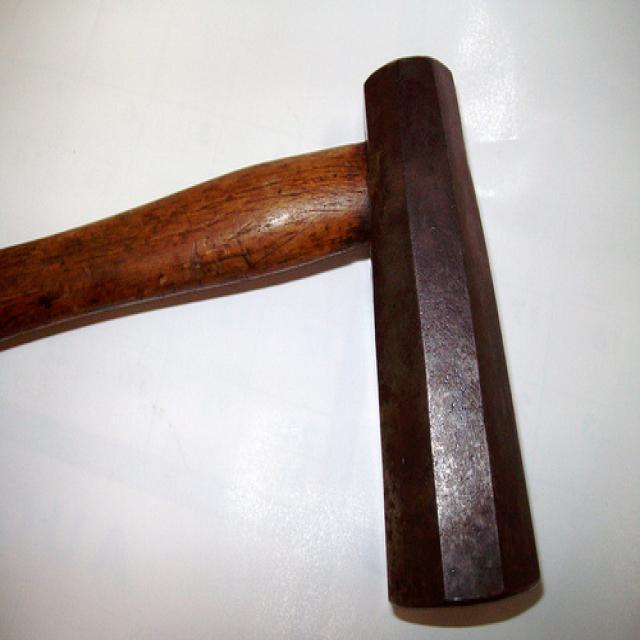hammer: (0, 33, 551, 640)
